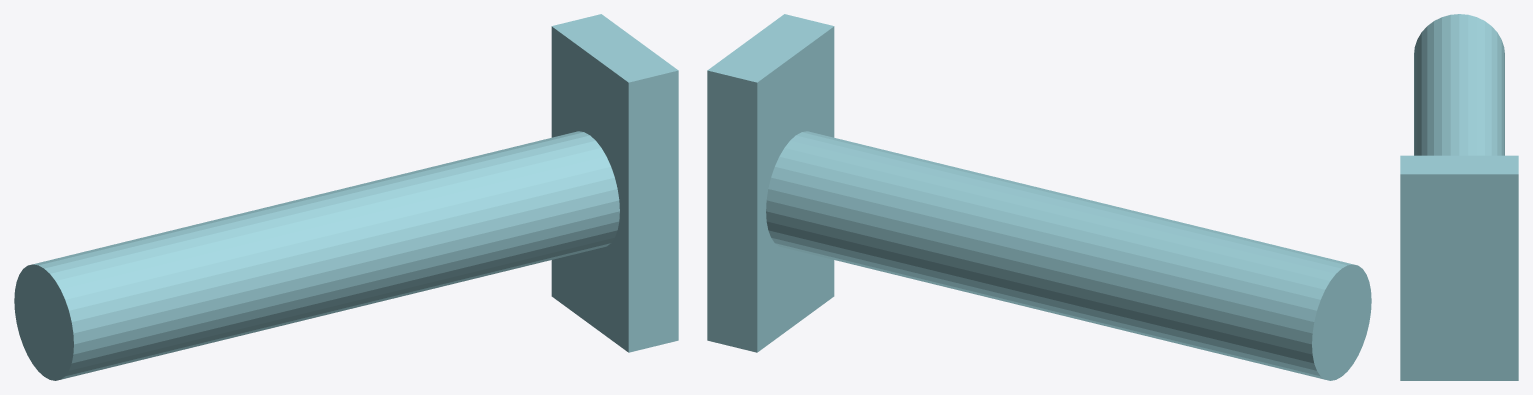
Rendered from cylinder_hammer_v1009.obj.
3 views of the same model, side by side, from view 1: azimuth 30°, elevation 25°; view 2: azimuth 150°, elevation 25°; view 3: azimuth 270°, elevation 25° (orthographic). The views are drawn at different scales.
Size of the model in its own units: 0.249 by 0.1078 by 0.0558.
1 material, 1 textured.
